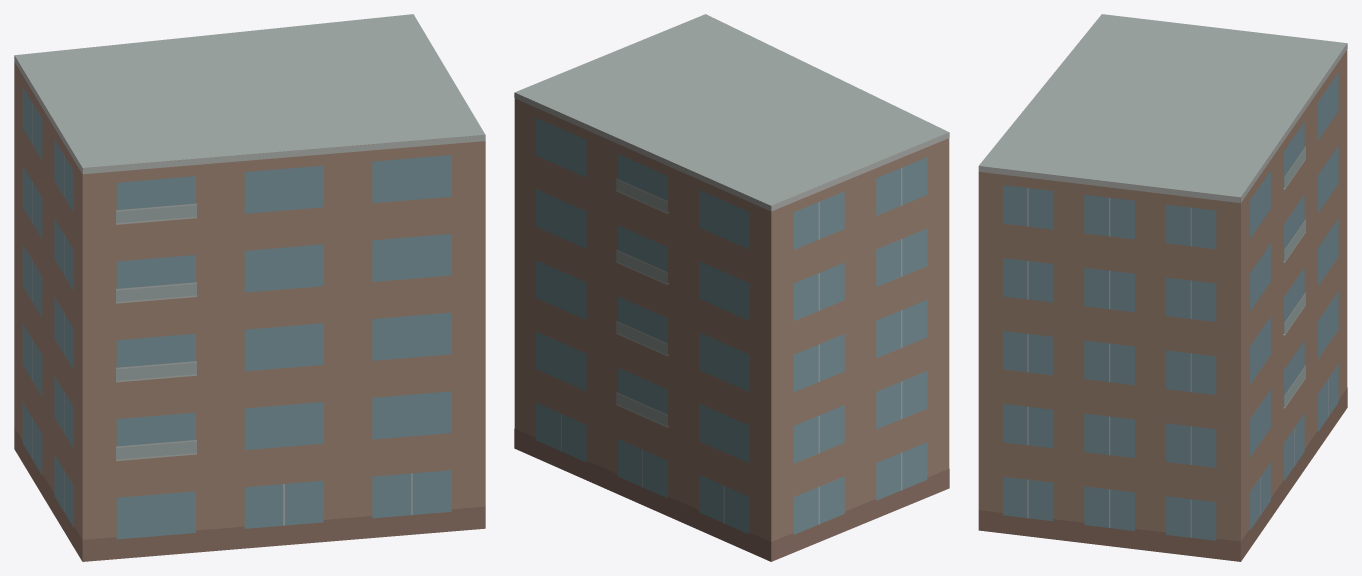
File: survey-upis-32869191.glb
3 views of the same model, side by side, from view 1: azimuth 30°, elevation 25°; view 2: azimuth 150°, elevation 25°; view 3: azimuth 270°, elevation 25° (orthographic). The views are drawn at different scales.
Visible parts, largest first — view 1: survey-upis-32869191.tmp; view 2: survey-upis-32869191.tmp; view 3: survey-upis-32869191.tmp.
Boxes of the visible parts, left/top/right/bottom form: survey-upis-32869191.tmp: left=14, top=14, right=485, bottom=561; survey-upis-32869191.tmp: left=514, top=14, right=949, bottom=561; survey-upis-32869191.tmp: left=978, top=14, right=1347, bottom=561.
Bounding box in the file's own units: 16.46 × 15.25 × 14.
